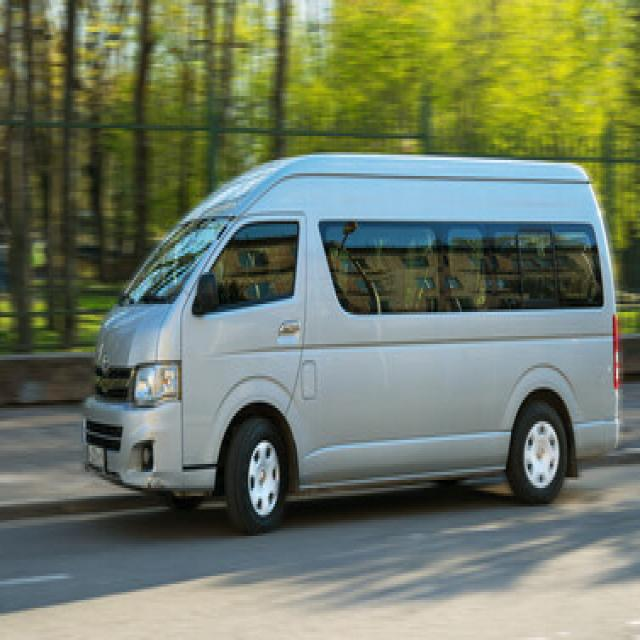van: (81, 155, 618, 533)
